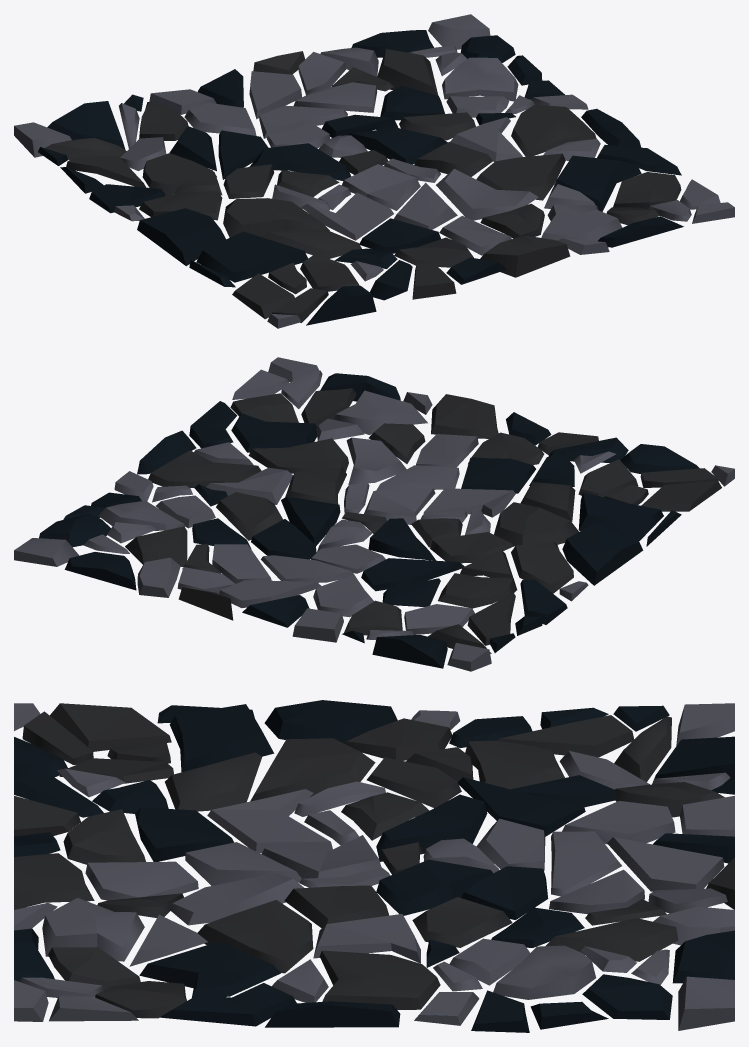
The model's file is Stones_2.fbx.
3 views of the same model, one above another, from view 1: azimuth 30°, elevation 25°; view 2: azimuth 150°, elevation 25°; view 3: azimuth 270°, elevation 25° (orthographic). The views are drawn at different scales.
Visible parts, largest first — view 1: Stones_2; view 2: Stones_2; view 3: Stones_2.
Part boxes in pixels (x1,y1,x2,y2): Stones_2: [14, 14, 734, 328]; Stones_2: [14, 357, 734, 671]; Stones_2: [14, 700, 734, 1032].
Size of the model in its own units: 147 by 10.51 by 147.
